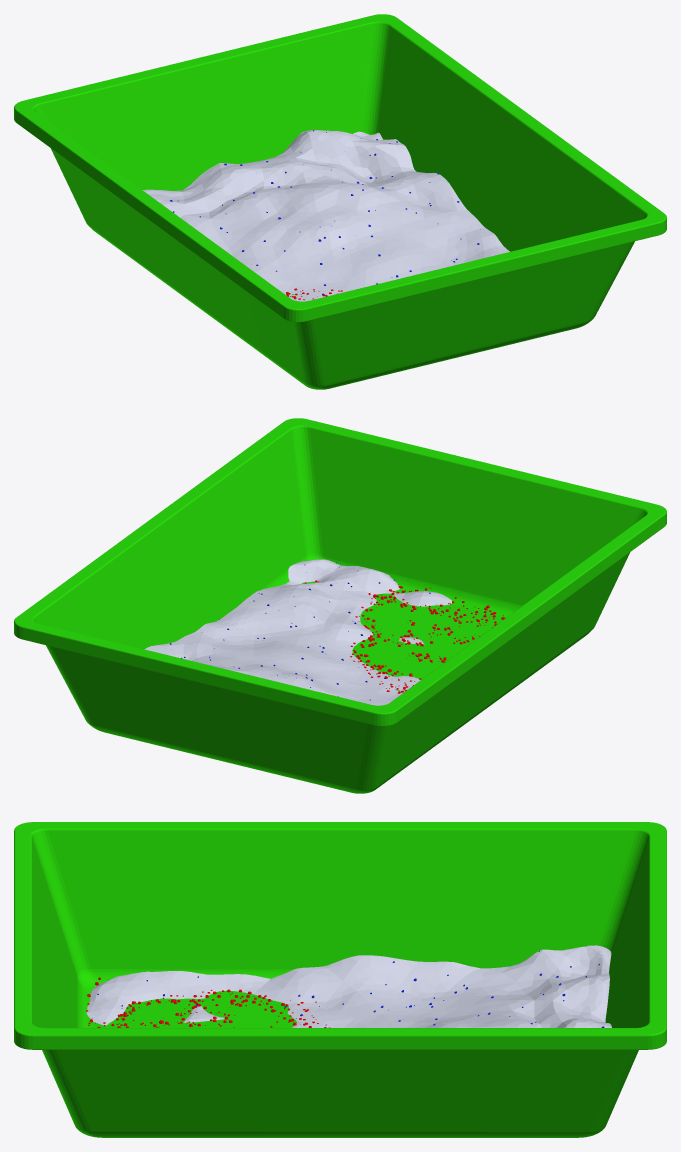
File: litiera2.fbx
The picture shows the model from 3 angles, top to bottom: view 1: azimuth 30°, elevation 25°; view 2: azimuth 150°, elevation 25°; view 3: azimuth 270°, elevation 25°; orthographic projection. The views are drawn at different scales.
Visible parts, largest first — view 1: litiera box, nisip cu bile; view 2: litiera box, nisip cu bile; view 3: litiera box, nisip cu bile.
Boxes of the visible parts, x1=… form: litiera box: x1=14, y1=14, x2=666, y2=389; nisip cu bile: x1=142, y1=130, x2=509, y2=301; litiera box: x1=14, y1=418, x2=666, y2=793; nisip cu bile: x1=144, y1=559, x2=451, y2=705; litiera box: x1=14, y1=822, x2=666, y2=1137; nisip cu bile: x1=86, y1=945, x2=611, y2=1027.
Bounding box in the file's own units: 34.21 × 10.22 × 44.21.
